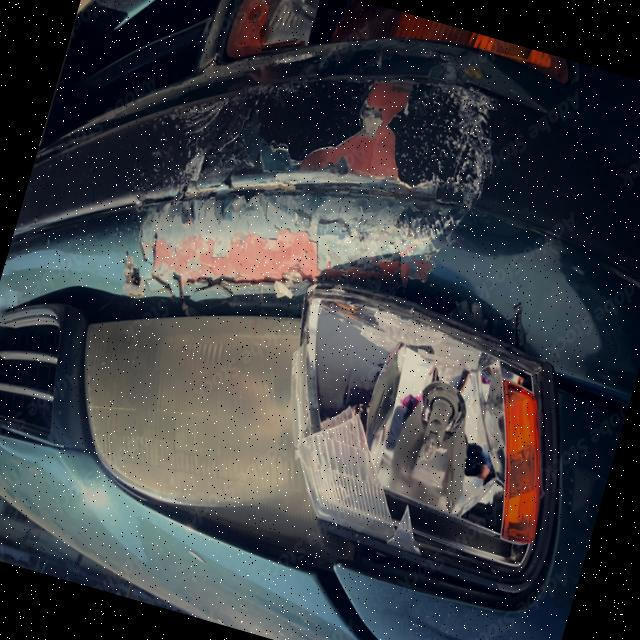Head Light: (226, 208, 598, 640)
